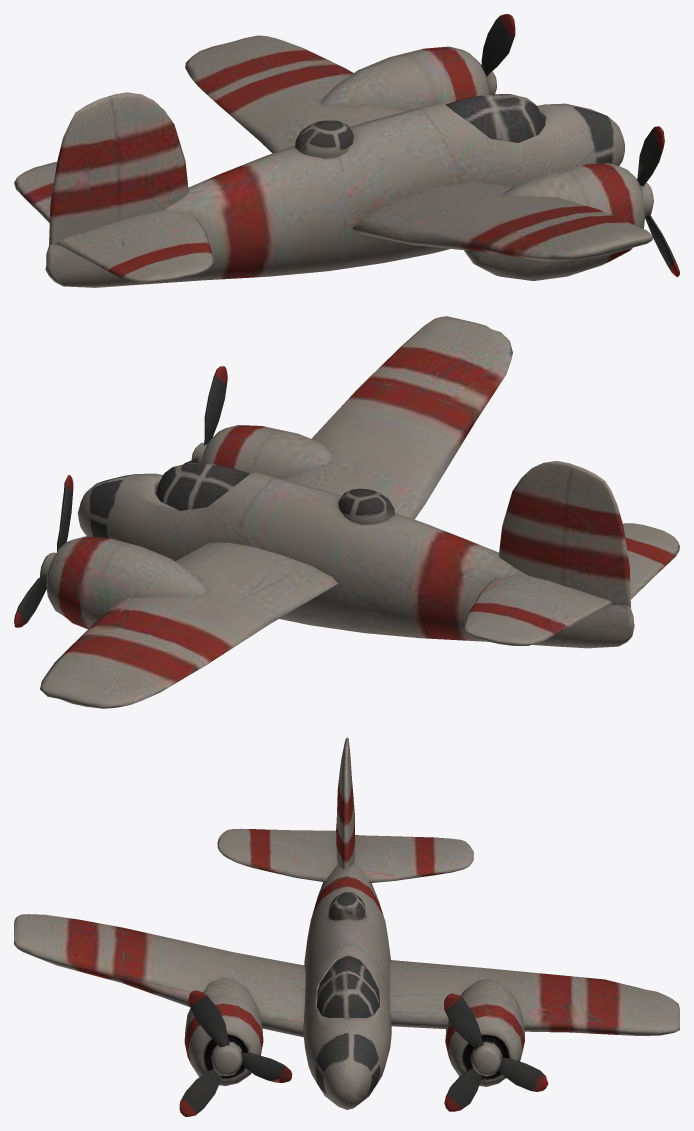
File: bomber.glb
3 renders of one model, top to bottom at view 1: azimuth 30°, elevation 25°; view 2: azimuth 150°, elevation 25°; view 3: azimuth 270°, elevation 25°, orthographic. The views are drawn at different scales.
Visible parts, largest first — view 1: hull; view 2: hull; view 3: hull.
Boxes of the visible parts, x1,y1,x2,y2 form: hull: [14, 14, 679, 287]; hull: [14, 316, 679, 708]; hull: [14, 737, 679, 1116].
Size of the model in its own units: 0.8231 by 0.32 by 1.
Materials: 1 (1 with a texture image).
